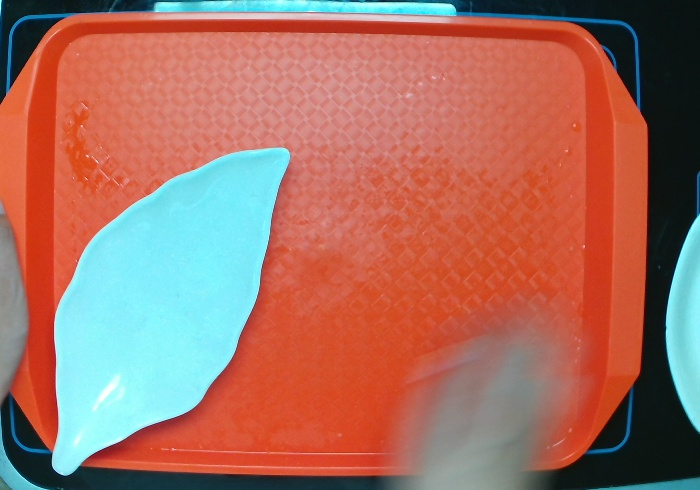RJxy-Shu_Ye_Pan: (48, 145, 296, 481)
